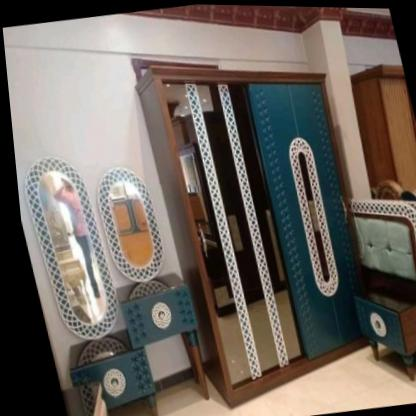Ceramic floor: (150, 344, 416, 416)
Closet: (149, 64, 361, 406)
